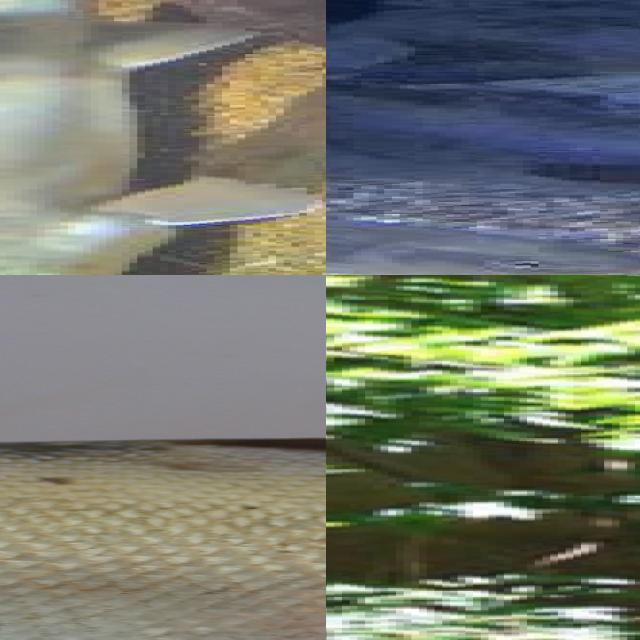fish: (0, 0, 326, 275), (0, 379, 326, 640)
